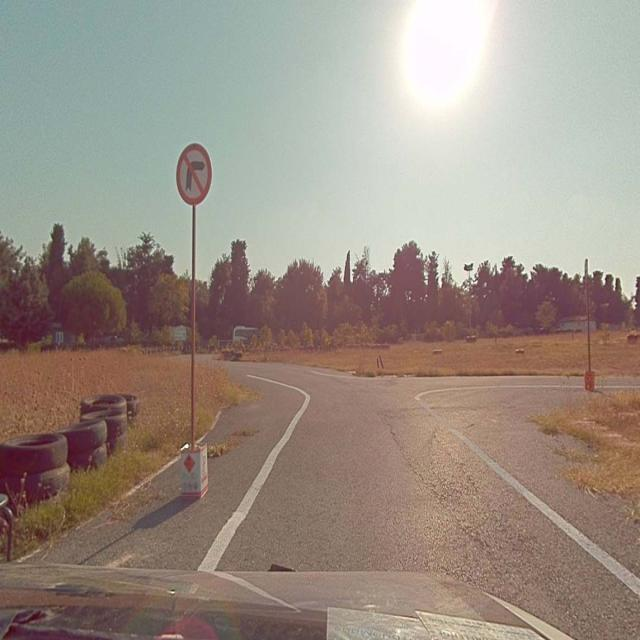sagadonulmez: (177, 143, 211, 205)
